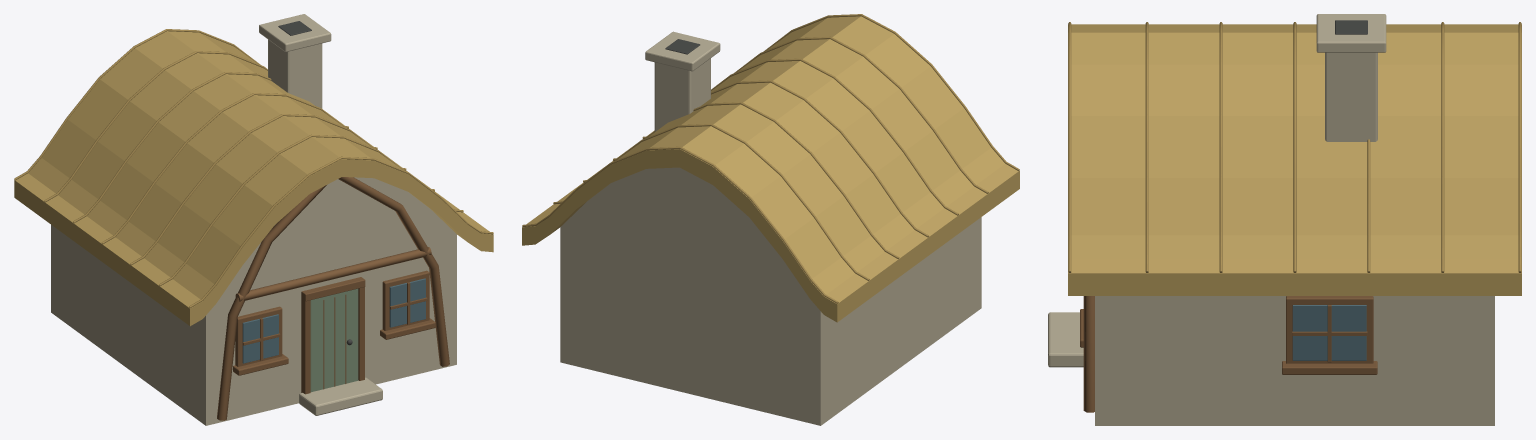
Rendered from small_thatched_cruck.glb.
The picture shows the model from 3 angles, left to right: view 1: azimuth 30°, elevation 25°; view 2: azimuth 150°, elevation 25°; view 3: azimuth 270°, elevation 25°; orthographic projection. The views are drawn at different scales.
Visible parts, largest first — view 1: Cruck thick rounded thatch roof, Cruck closed stone house body, Cruck entry closed door slab, Cruck stone chimney masonry shaft, Cruck exposed curved front timber, Cruck exposed curved front timber.001, Cruck shallow door step, Cruck front tie beam, Cruck stone chimney projecting chimney cap, Cruck square window dark glazing.001, Cruck square window dark glazing, Thatch roof binding course (+13 smaller); view 2: Cruck closed stone house body, Cruck thick rounded thatch roof, Cruck stone chimney masonry shaft, Cruck stone chimney projecting chimney cap, Thatch roof binding course.006, Thatch roof binding course.005, Thatch roof binding course, Thatch roof binding course.001, Thatch roof binding course.002, Thatch roof binding course.003, Thatch roof binding course.004; view 3: Cruck thick rounded thatch roof, Cruck closed stone house body, Cruck stone chimney masonry shaft, Cruck side window glazing, Cruck stone chimney projecting chimney cap, Cruck side window surround, Cruck shallow door step, Cruck exposed curved front timber.001, Cruck side window projecting sill, Thatch roof binding course, Thatch roof binding course.001, Thatch roof binding course.002 (+5 smaller).
Part boxes in pixels (x1=…): Cruck thick rounded thatch roof: x1=14, y1=31, x2=493, y2=326; Cruck closed stone house body: x1=51, y1=177, x2=456, y2=425; Cruck entry closed door slab: x1=310, y1=288, x2=358, y2=392; Cruck stone chimney masonry shaft: x1=268, y1=39, x2=322, y2=108; Cruck exposed curved front timber: x1=217, y1=185, x2=326, y2=420; Cruck exposed curved front timber.001: x1=338, y1=177, x2=449, y2=366; Cruck shallow door step: x1=299, y1=377, x2=382, y2=415; Cruck front tie beam: x1=235, y1=247, x2=431, y2=301; Cruck stone chimney projecting chimney cap: x1=259, y1=14, x2=331, y2=51; Cruck square window dark glazing.001: x1=389, y1=278, x2=425, y2=327; Cruck square window dark glazing: x1=242, y1=314, x2=278, y2=363; Thatch roof binding course: x1=189, y1=156, x2=493, y2=307; Cruck closed stone house body: x1=560, y1=167, x2=981, y2=425; Cruck thick rounded thatch roof: x1=522, y1=16, x2=1019, y2=322; Cruck stone chimney masonry shaft: x1=654, y1=58, x2=710, y2=131; Cruck stone chimney projecting chimney cap: x1=645, y1=31, x2=720, y2=71; Thatch roof binding course.006: x1=522, y1=146, x2=838, y2=303; Thatch roof binding course.005: x1=553, y1=124, x2=869, y2=280; Thatch roof binding course: x1=764, y1=14, x2=1019, y2=170; Thatch roof binding course.001: x1=734, y1=36, x2=988, y2=193; Thatch roof binding course.002: x1=642, y1=58, x2=958, y2=215; Thatch roof binding course.003: x1=613, y1=80, x2=928, y2=237; Thatch roof binding course.004: x1=583, y1=102, x2=899, y2=258; Cruck thick rounded thatch roof: x1=1068, y1=24, x2=1521, y2=295; Cruck closed stone house body: x1=1095, y1=296, x2=1494, y2=425; Cruck stone chimney masonry shaft: x1=1325, y1=52, x2=1377, y2=141; Cruck side window glazing: x1=1292, y1=305, x2=1366, y2=360; Cruck stone chimney projecting chimney cap: x1=1316, y1=14, x2=1386, y2=52; Cruck side window surround: x1=1286, y1=296, x2=1373, y2=363; Cruck shallow door step: x1=1048, y1=312, x2=1083, y2=367; Cruck exposed curved front timber.001: x1=1083, y1=296, x2=1094, y2=412; Cruck side window projecting sill: x1=1282, y1=361, x2=1377, y2=374; Thatch roof binding course: x1=1068, y1=22, x2=1071, y2=272; Thatch roof binding course.001: x1=1145, y1=22, x2=1148, y2=272; Thatch roof binding course.002: x1=1219, y1=22, x2=1222, y2=272.
Bounding box in the file's own units: 5.21 × 4.57 × 5.45.
